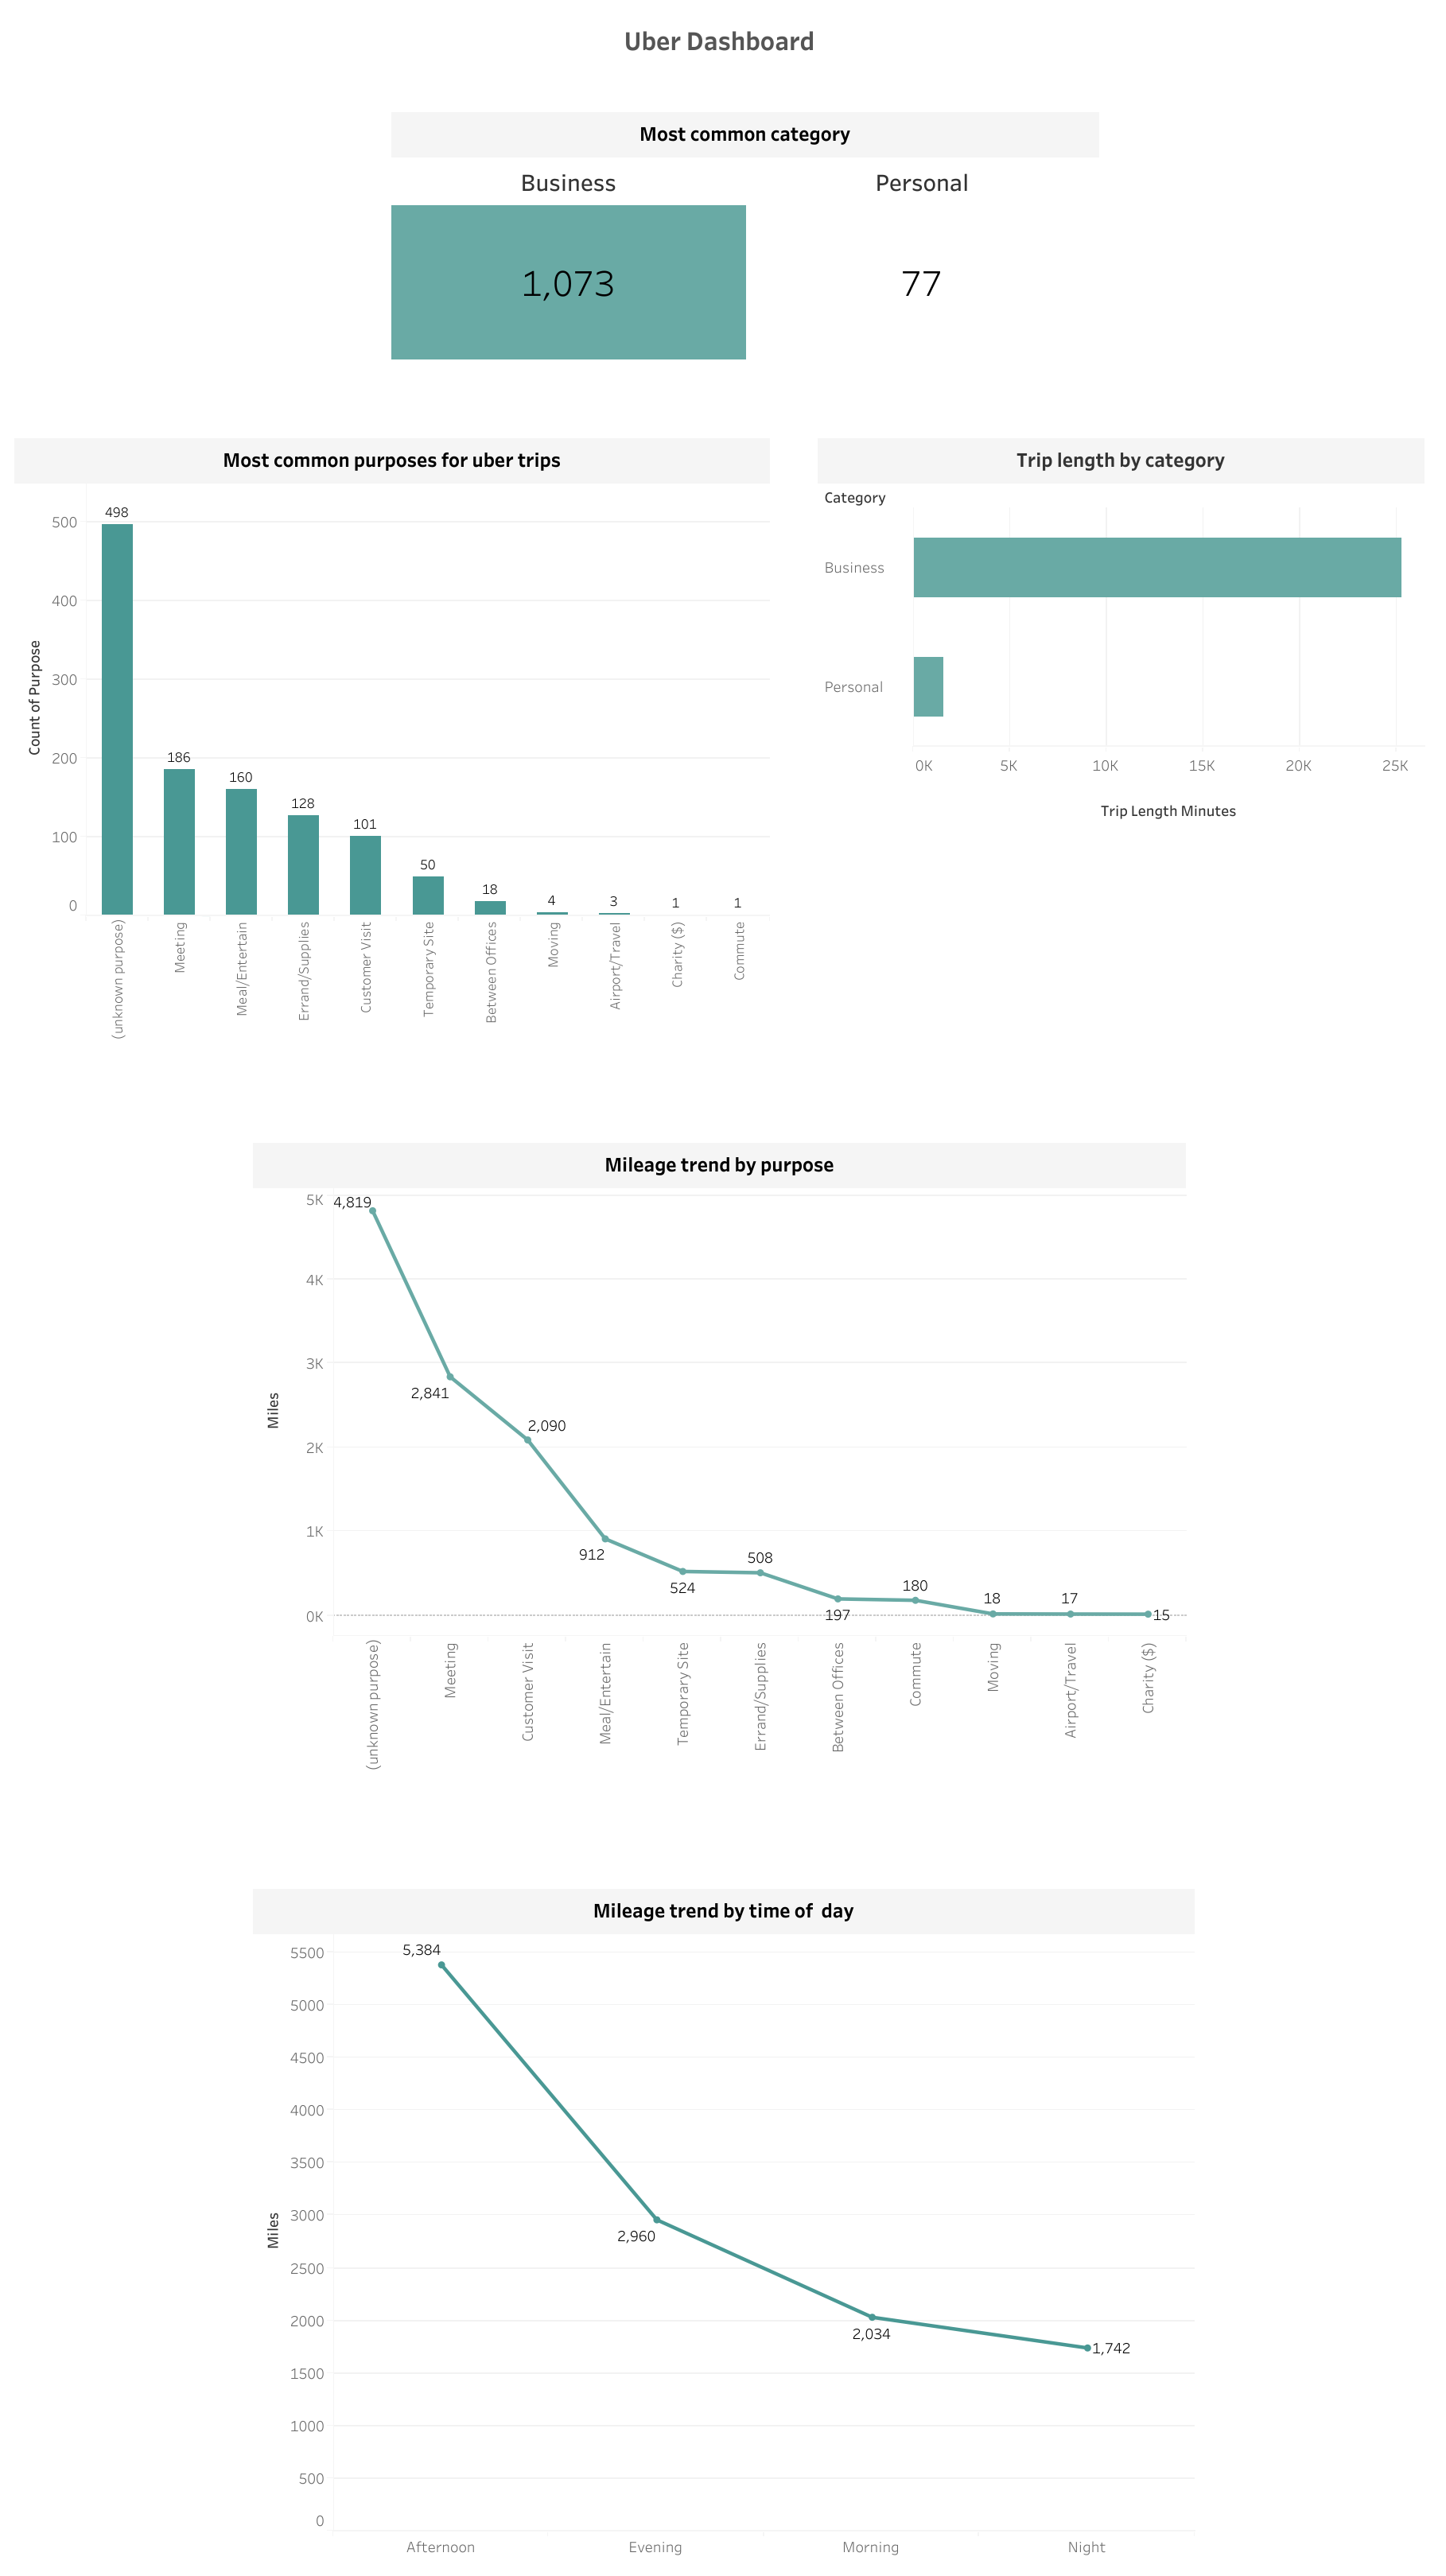

The dashboard page shown, as its layout file describes it:
{"tool":"tableau","page":{"name":"Dashboard 2","canvas":[1000,1000],"units":"permille","ordinal":0},"visuals":[{"type":"text","box":[5.2,3.7,984,23.2]},{"type":"worksheet","title":"Sheet 3","mark":"Square","cols":["CATEGORY"],"box":[266.6,41.5,497.1,99.6]},{"type":"worksheet","title":"Sheet 4","mark":"Automatic","rows":["PURPOSE"],"cols":["PURPOSE"],"box":[5.2,168.1,535.7,237.4]},{"type":"worksheet","title":"Sheet 1","mark":"Bar","rows":["CATEGORY"],"cols":["TRIP_LENGTH_MINUTES"],"box":[561.6,168.1,427.6,155.5]},{"type":"worksheet","title":"Sheet 2","mark":"Line","rows":["MILES"],"cols":["PURPOSE"],"box":[134.6,441.7,725.1,247.7]},{"type":"worksheet","title":"Sheet 5","mark":"Line","rows":["MILES"],"cols":["PARTS_OF_DAY"],"box":[134.6,731,730.7,265.3]}]}

Visuals, with their boxes on the dashboard's canvas, which has no fixed pixel size, in thousandths of its width and height (x1, y1, x2, y2). These are canvas units, not pixel positions in the 1446x2576 screenshot, which may show the page scaled, cropped or inside an application window:
text: <bbox>5, 4, 989, 27</bbox>
"Sheet 3" worksheet (Square marks): <bbox>267, 42, 764, 141</bbox>
"Sheet 4" worksheet: <bbox>5, 168, 541, 406</bbox>
"Sheet 1" worksheet (Bar marks): <bbox>562, 168, 989, 324</bbox>
"Sheet 2" worksheet (Line marks): <bbox>135, 442, 860, 689</bbox>
"Sheet 5" worksheet (Line marks): <bbox>135, 731, 865, 996</bbox>
